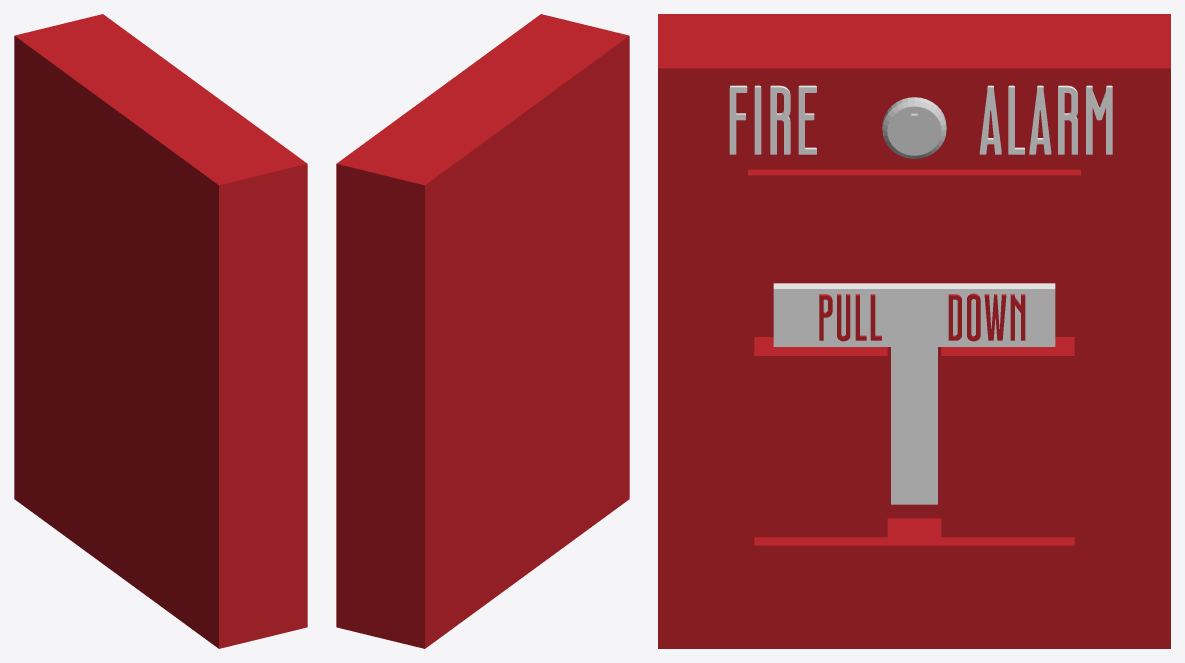
File: FireAlarmModel.fbx
3 renders of one model, left to right at view 1: azimuth 30°, elevation 25°; view 2: azimuth 150°, elevation 25°; view 3: azimuth 270°, elevation 25°, orthographic. The views are drawn at different scales.
Visible parts, largest first — view 1: Box; view 2: Box; view 3: Box, Lever.
Part boxes in pixels (left/top/right/bottom): Box: left=14, top=14, right=307, bottom=648; Box: left=336, top=14, right=629, bottom=648; Box: left=658, top=14, right=1170, bottom=648; Lever: left=773, top=283, right=1055, bottom=504.
Size of the model in its own units: 112 by 500 by 400.
